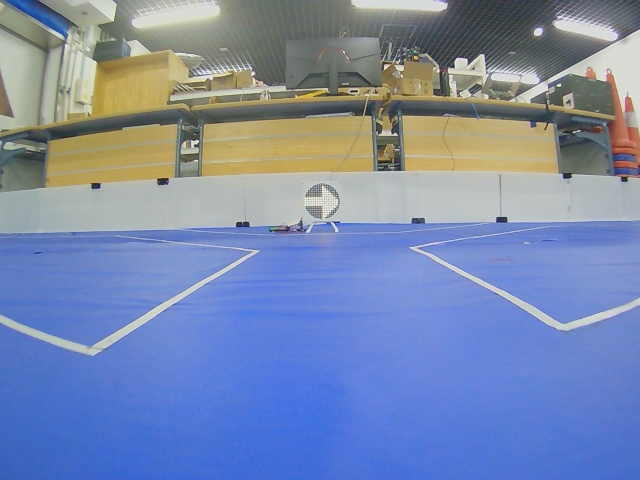right_yellow: (304, 183, 341, 220)
